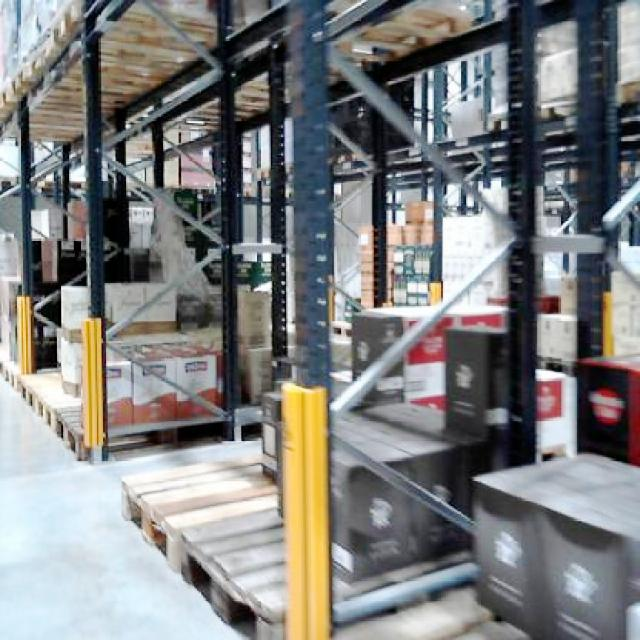ground: (0, 340, 638, 638)
pallet: (118, 382, 483, 638), (0, 280, 238, 462), (0, 0, 243, 162), (118, 446, 289, 638), (468, 449, 638, 638), (177, 506, 288, 626), (0, 354, 89, 460), (354, 198, 435, 309), (575, 345, 638, 477)
